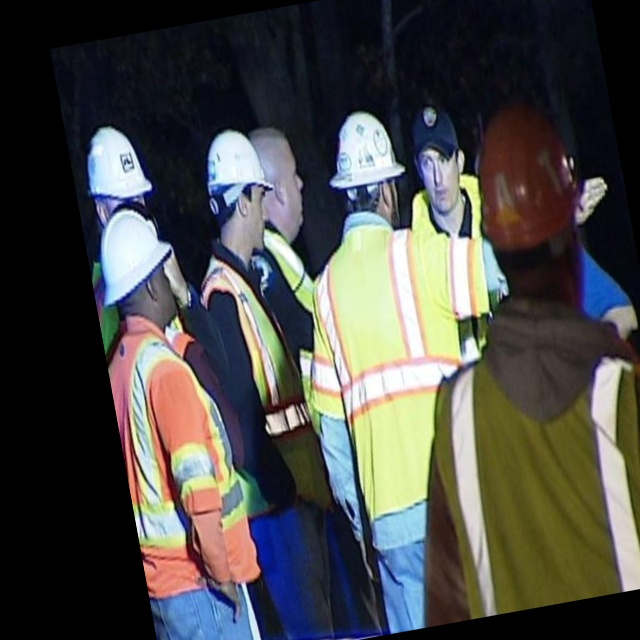Con_Casco: (319, 102, 414, 227), (197, 121, 283, 250), (91, 205, 182, 326)
Con_Chaleco: (417, 337, 640, 621), (307, 222, 488, 518), (102, 315, 262, 593)
